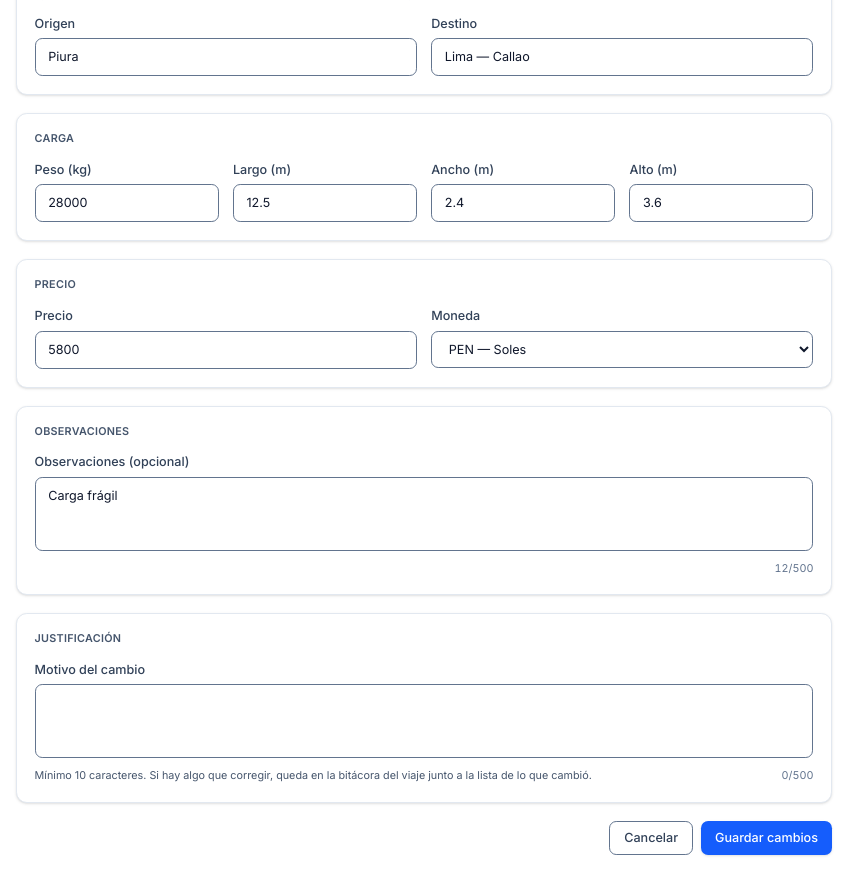
Test case: ServiceEditPage, lo que manda › no manda nada sin justificación, y lo dice sobre el campo
(page scrolled)
Click the button "Guardar cambios" at (766, 838), box [701,820,832,855]
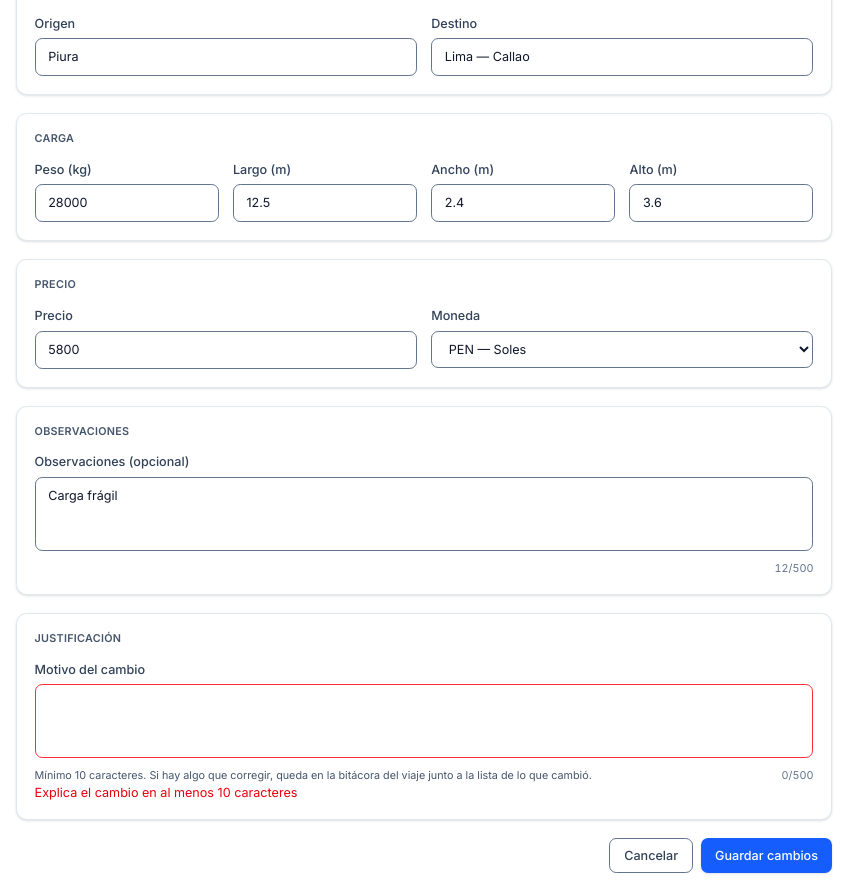
Expected: the text "Explica el cambio en al menos 10 caracteres" is shown, [35,784,297,800]
